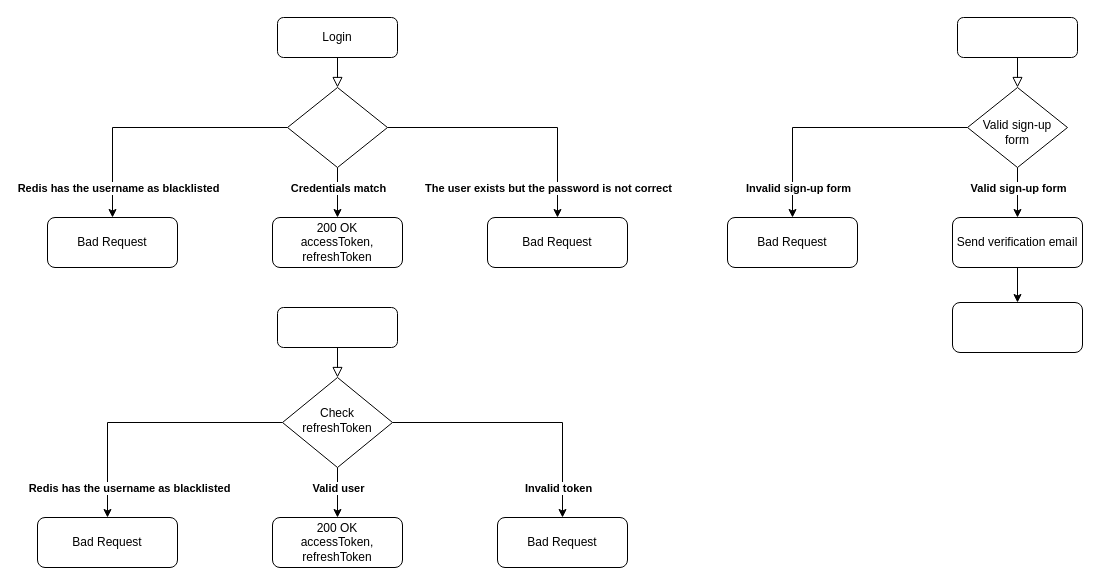
The diagram is 1100 pixels wide and 585 high, and some of its shapes have lost their labels. Here are the shapes that lost their labels. From the top down, the centre of each, then its label:
At [1017,37]: "Sign-up".
At [337,127]: "Check credentials".
At [337,327]: "Reissue tokens using refresh token".
At [1017,327]: "Client opens the email and signed-up".
